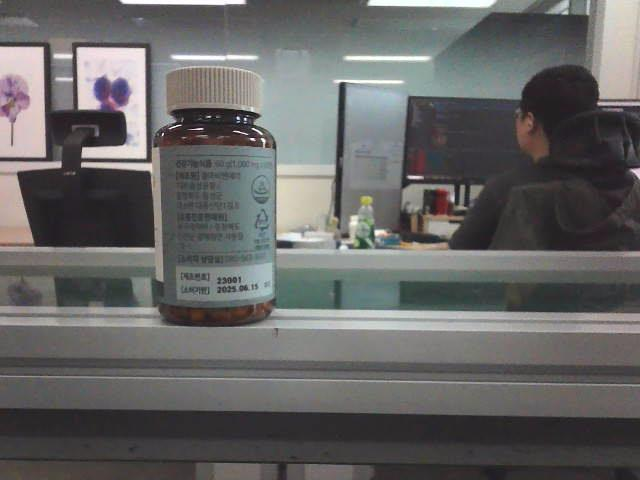labeled: (151, 60, 281, 332)
